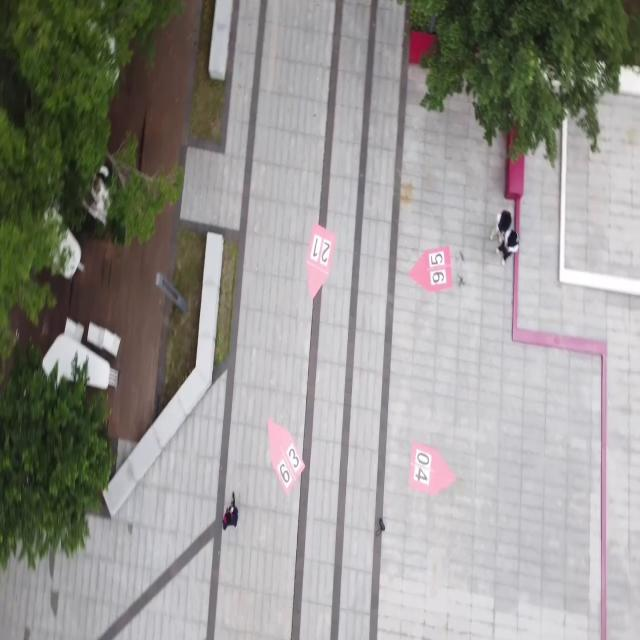-sign-: (255, 408, 312, 504), (402, 427, 459, 512), (404, 228, 460, 303), (302, 219, 338, 300)
